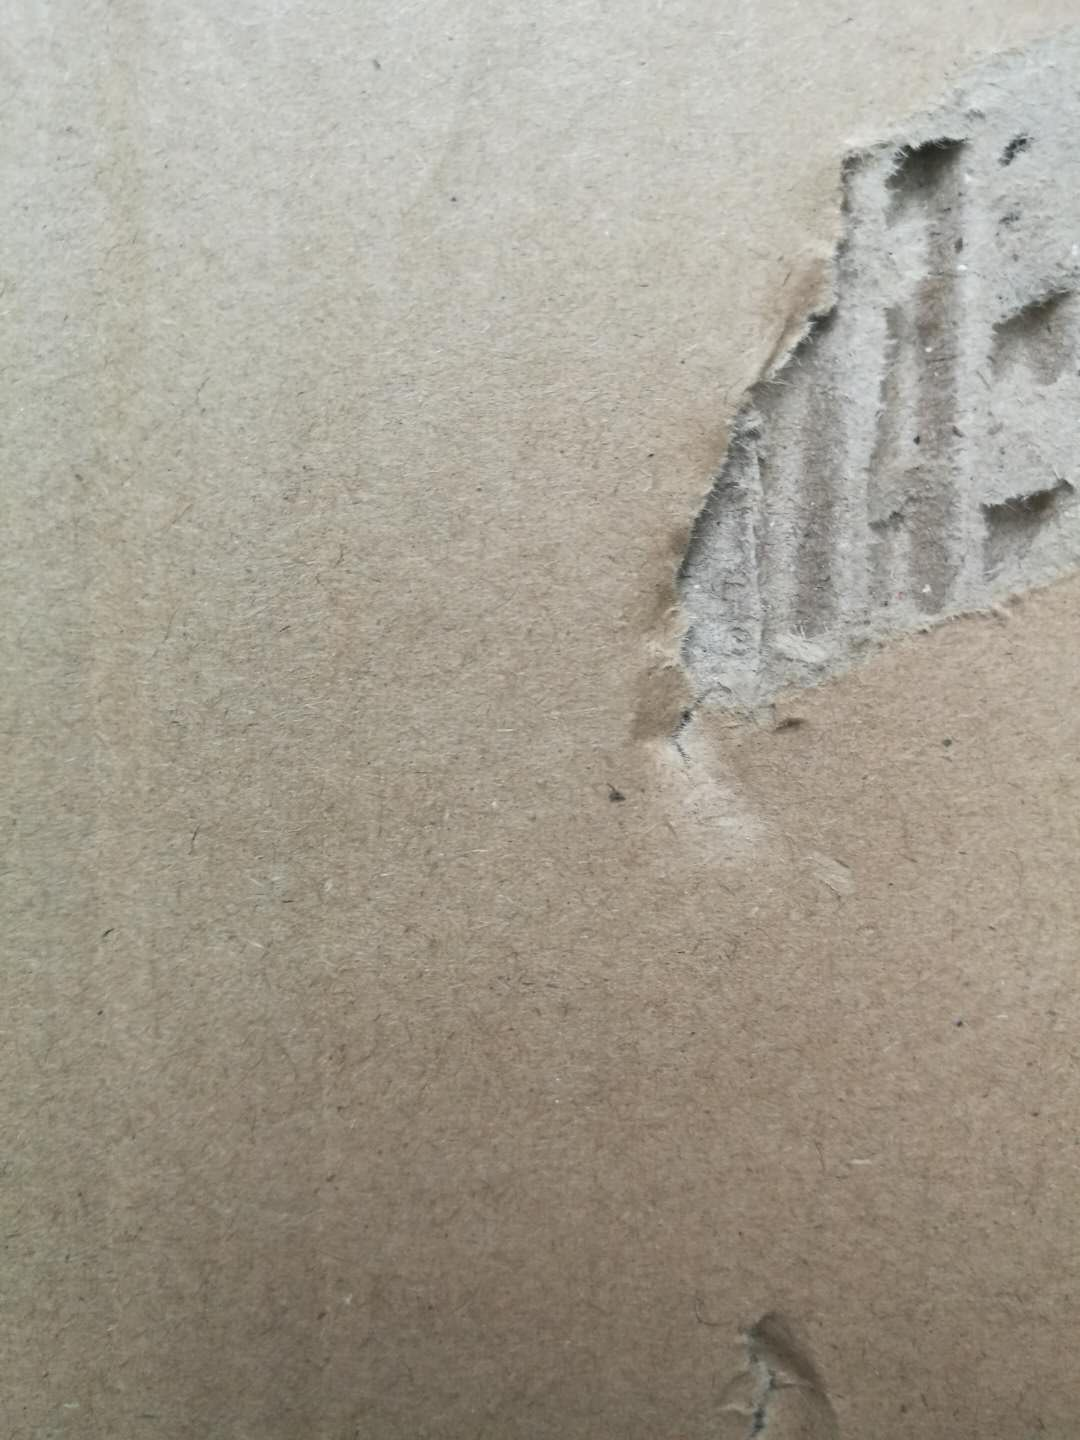defect: (589, 5, 1080, 888), (689, 1290, 867, 1440)
